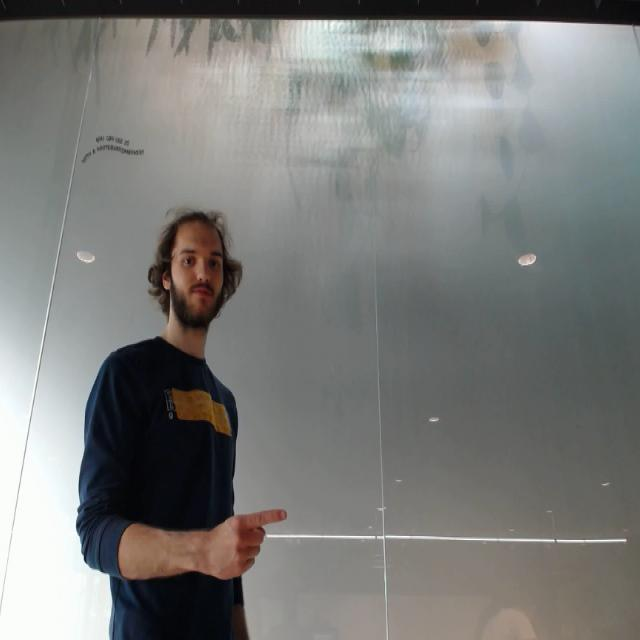right: (208, 499, 296, 584)
